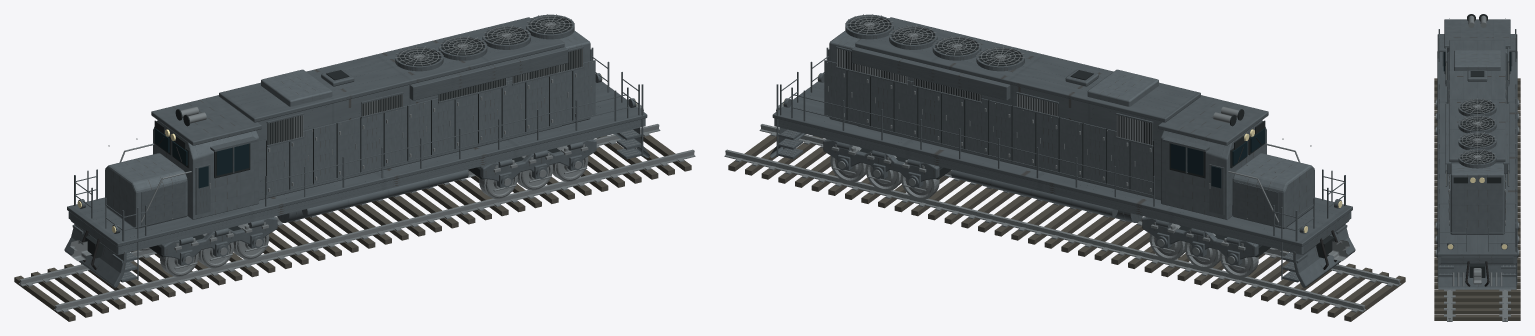
File: D2-diesel-medium.glb
3 renders of one model, left to right at view 1: azimuth 30°, elevation 25°; view 2: azimuth 150°, elevation 25°; view 3: azimuth 270°, elevation 25°, orthographic. The views are drawn at different scales.
Parts seen in each view (by area): view 1: panels-and-hardware-paint-batch, display-rails-sleeper-batch, long-engine-hood-trim-batch, walkways-and-guards-deck-batch, cab-and-short-nose-paint-batch, display-rails-steel-batch, cab-and-short-nose-trim-batch, long-engine-hood-paint-batch, chassis-and-tanks-paint-batch, panels-and-hardware-dark-batch, walkways-and-guards-trim-batch, panels-and-hardware-steel-batch (+15 smaller); view 2: panels-and-hardware-paint-batch, display-rails-sleeper-batch, long-engine-hood-trim-batch, walkways-and-guards-deck-batch, cab-and-short-nose-paint-batch, display-rails-steel-batch, cab-and-short-nose-trim-batch, long-engine-hood-paint-batch, chassis-and-tanks-paint-batch, panels-and-hardware-dark-batch, walkways-and-guards-trim-batch, panels-and-hardware-steel-batch (+18 smaller); view 3: walkways-and-guards-deck-batch, long-engine-hood-trim-batch, display-rails-sleeper-batch, long-engine-hood-paint-batch, cab-and-short-nose-trim-batch, pilots-and-couplers-trim-batch, roof-fans-and-exhaust-steel-batch, roof-fans-and-exhaust-trim-batch, roof-fans-and-exhaust-dark-batch, walkways-and-guards-trim-batch, roof-machinery-cover, display-rails-steel-batch (+15 smaller).
Part boxes in pixels (box(x1,y1,x2,y2)): panels-and-hardware-paint-batch: box(266, 60, 595, 194); display-rails-sleeper-batch: box(14, 134, 691, 321); long-engine-hood-trim-batch: box(219, 17, 568, 122); walkways-and-guards-deck-batch: box(67, 81, 647, 282); cab-and-short-nose-paint-batch: box(105, 120, 258, 228); display-rails-steel-batch: box(18, 124, 695, 312); cab-and-short-nose-trim-batch: box(141, 95, 261, 225); long-engine-hood-paint-batch: box(237, 30, 590, 200); chassis-and-tanks-paint-batch: box(68, 118, 645, 254); panels-and-hardware-dark-batch: box(154, 49, 581, 194); walkways-and-guards-trim-batch: box(74, 47, 643, 279); panels-and-hardware-steel-batch: box(108, 48, 593, 218); panels-and-hardware-paint-batch: box(824, 60, 1153, 194); display-rails-sleeper-batch: box(728, 134, 1405, 321); long-engine-hood-trim-batch: box(851, 17, 1200, 122); walkways-and-guards-deck-batch: box(772, 81, 1352, 282); cab-and-short-nose-paint-batch: box(1161, 120, 1314, 228); display-rails-steel-batch: box(724, 124, 1401, 312); cab-and-short-nose-trim-batch: box(1158, 95, 1278, 225); long-engine-hood-paint-batch: box(829, 30, 1182, 200); chassis-and-tanks-paint-batch: box(774, 118, 1351, 254); panels-and-hardware-dark-batch: box(838, 49, 1265, 194); walkways-and-guards-trim-batch: box(776, 47, 1345, 279); panels-and-hardware-steel-batch: box(826, 48, 1311, 218); walkways-and-guards-deck-batch: box(1437, 51, 1517, 276); long-engine-hood-trim-batch: box(1445, 40, 1509, 173); display-rails-sleeper-batch: box(1434, 78, 1520, 320); long-engine-hood-paint-batch: box(1450, 162, 1504, 234); cab-and-short-nose-trim-batch: box(1439, 19, 1515, 84); pilots-and-couplers-trim-batch: box(1438, 242, 1516, 289); roof-fans-and-exhaust-steel-batch: box(1458, 15, 1496, 164); roof-fans-and-exhaust-trim-batch: box(1458, 70, 1496, 168); roof-fans-and-exhaust-dark-batch: box(1460, 14, 1494, 164); walkways-and-guards-trim-batch: box(1437, 29, 1517, 284); roof-machinery-cover: box(1454, 50, 1500, 70); display-rails-steel-batch: box(1444, 289, 1510, 321).
Size of the model in its own units: 23 by 5.34 by 3.41.
Materials: 9 (3 with a texture image).
